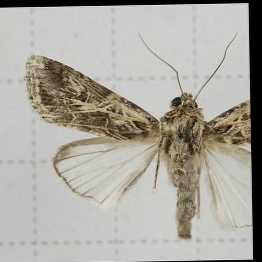Spodoptera litura: (23, 33, 250, 244)
